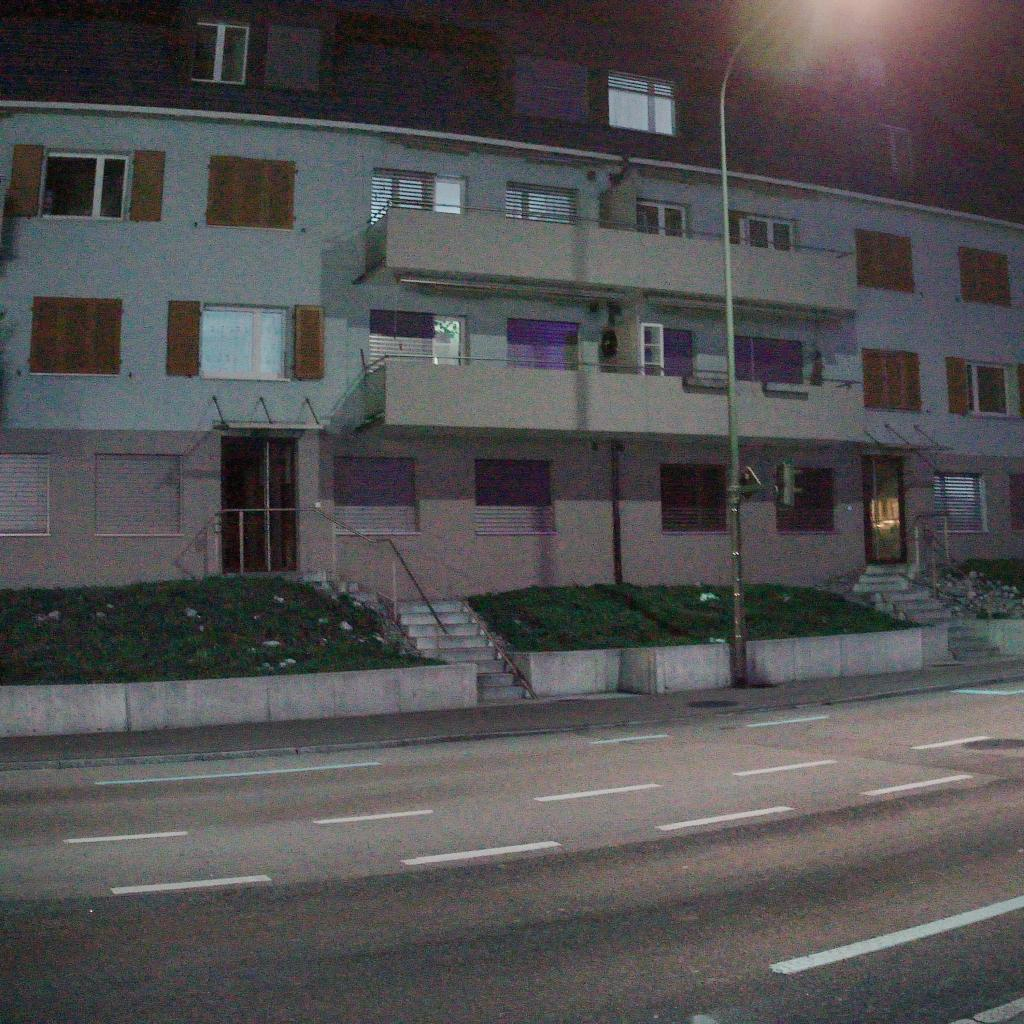balcony-fence: (365, 199, 856, 259), (361, 353, 862, 389)
facade: (0, 0, 1024, 598)
fence: (222, 506, 453, 660)
street: (0, 558, 1024, 1024)
traffic-infrastructure: (719, 0, 819, 687)
vegetation: (0, 573, 449, 686), (466, 581, 920, 652), (952, 553, 1024, 597)
window: (93, 453, 184, 537), (29, 297, 122, 375), (330, 456, 420, 535), (368, 307, 472, 373), (206, 154, 297, 229), (199, 305, 287, 380), (38, 150, 130, 221), (474, 460, 556, 535), (370, 167, 470, 225), (512, 55, 589, 124), (661, 464, 733, 533), (607, 69, 676, 137), (774, 468, 837, 535), (0, 452, 50, 536), (505, 317, 584, 370), (861, 347, 922, 413), (856, 228, 914, 296), (189, 21, 249, 84), (264, 27, 323, 90), (955, 245, 1013, 309), (734, 335, 806, 384), (505, 181, 580, 225), (932, 472, 985, 532), (729, 209, 796, 254), (638, 326, 697, 377), (966, 361, 1016, 417), (869, 120, 914, 178), (636, 199, 688, 237), (1007, 473, 1024, 531)
